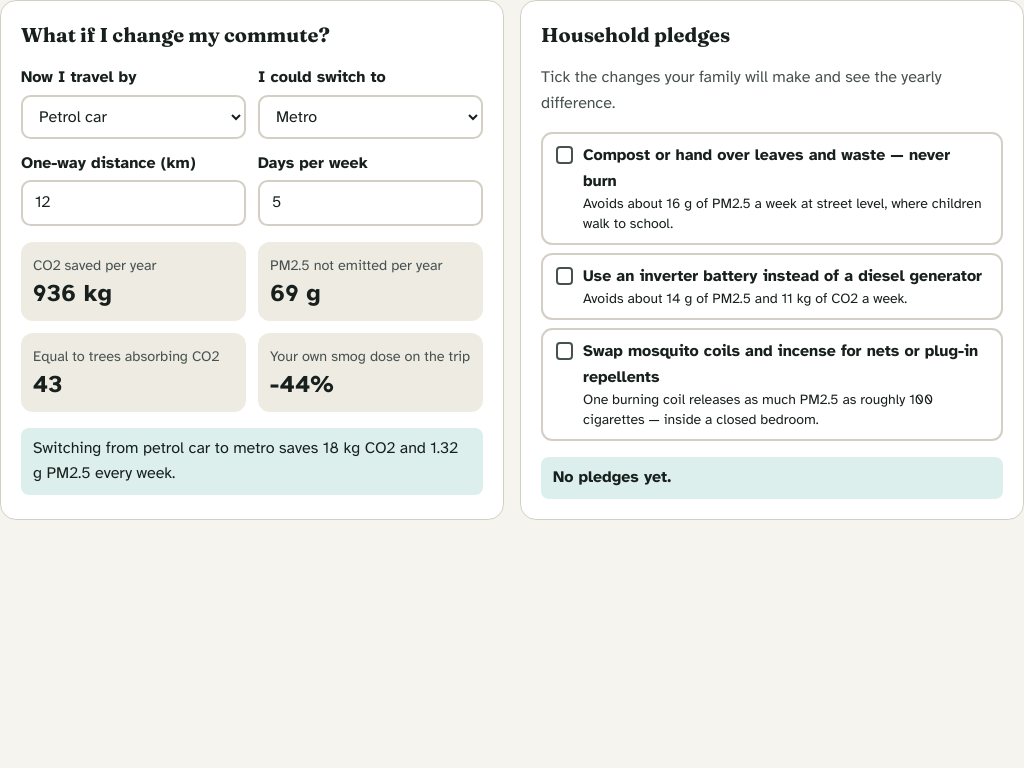
Test: ImpactCalculator › computes savings for a commute switch and warns about active-travel exposure
Expected: the text "Switching from petrol car to metro saves 18 kg CO2" is shown, [33,438,458,484]
Expected: the text "936 kg" is shown, [33,278,112,308]
Select "Cycling" in the dropdown labelled "I could switch to" at (370, 117), box [258,95,483,139]
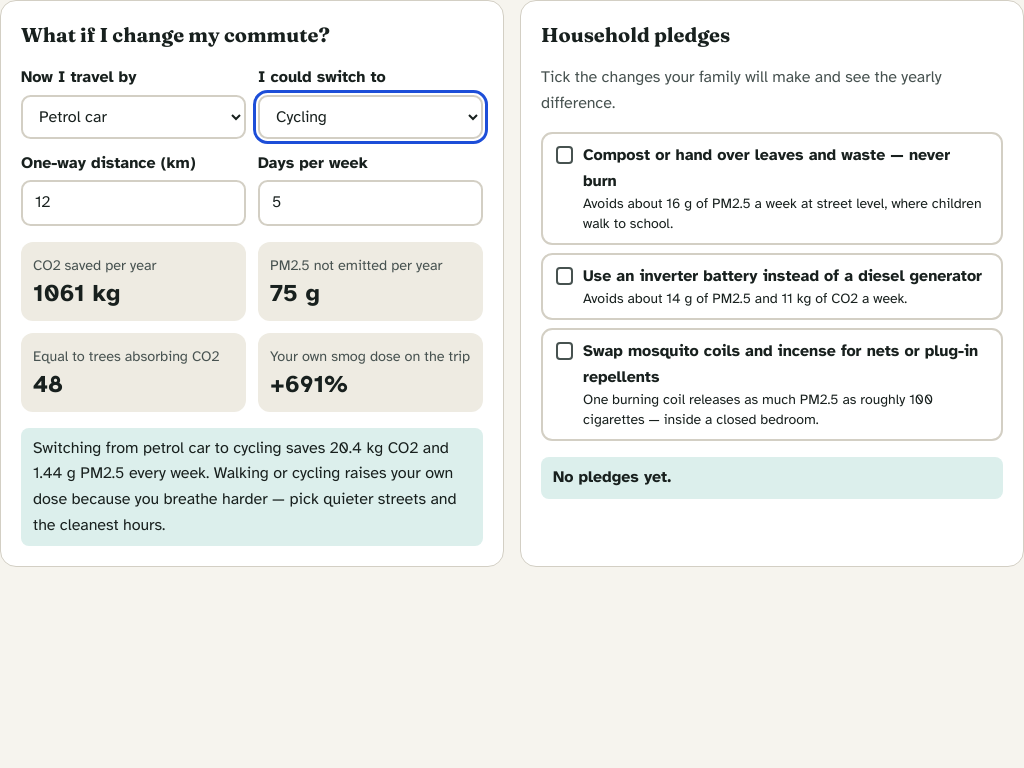
Now the text "raises your own dose" is shown, box [33,438,456,535]
Select "Petrol car" in the dropdown labelled "I could switch to" at (370, 117), box [258,95,483,139]
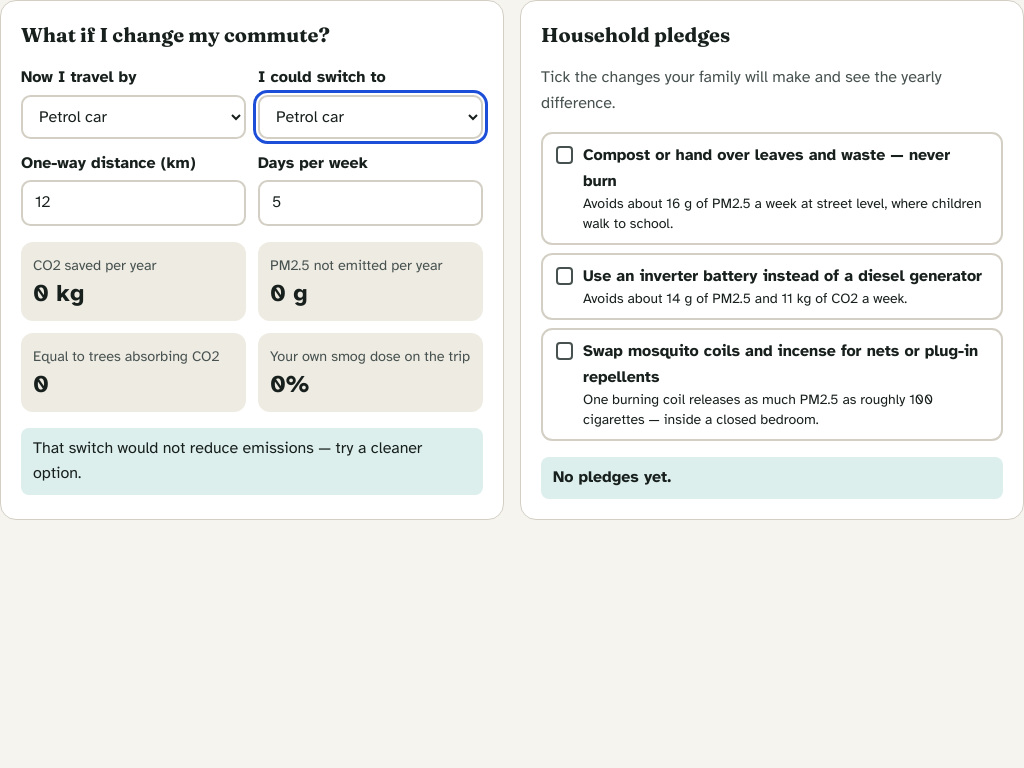
Now the text "would not reduce emissions" is shown, box [33,438,422,484]
